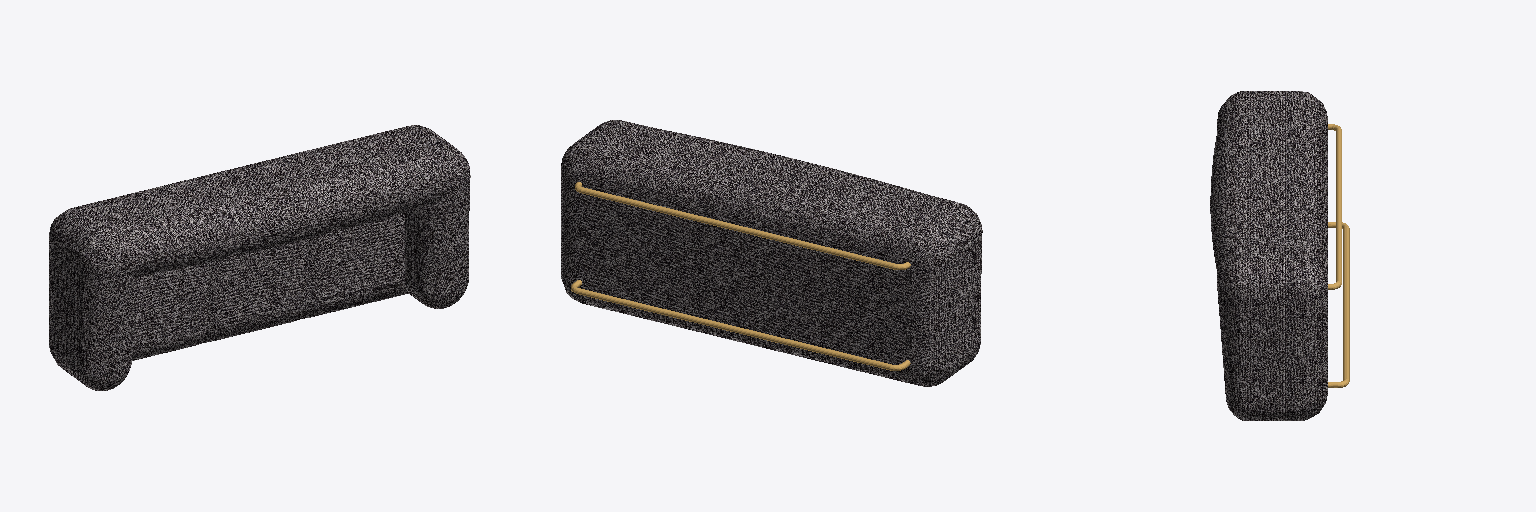
The picture shows the model from 3 angles: view 1: azimuth 30°, elevation 25°; view 2: azimuth 150°, elevation 25°; view 3: azimuth 270°, elevation 25°; orthographic projection.
Visible parts, largest first — view 1: default; view 2: default; view 3: default.
Part boxes in pixels (x1,y1,x2,y2): default: (49,125,470,390); default: (561,120,982,386); default: (1210,91,1349,420).
Bounding box in the file's own units: 2500 × 990 × 777.
2 materials, 1 textured.